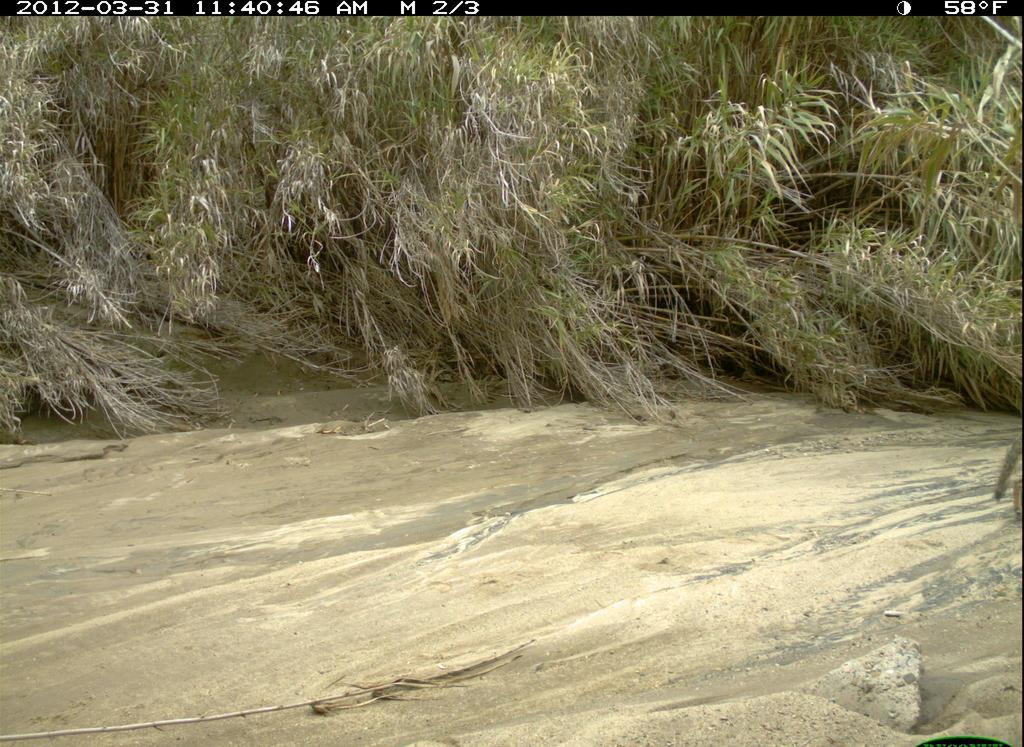coyote: (948, 378, 1023, 511)
